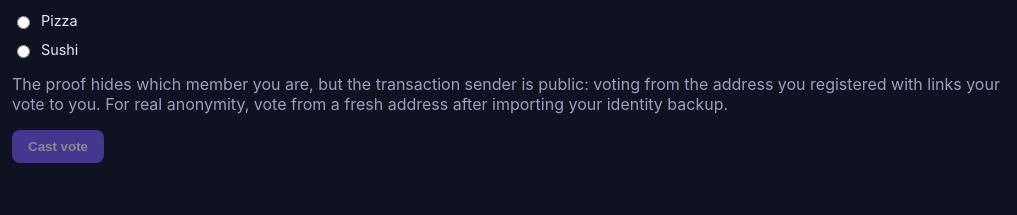
VotePanel › shows the proving state then success
The image size is (1017, 215).
Later steps or results of the test are not shown.
Click the radio button labelled "Sushi" at [24, 51], box [17, 44, 30, 58]
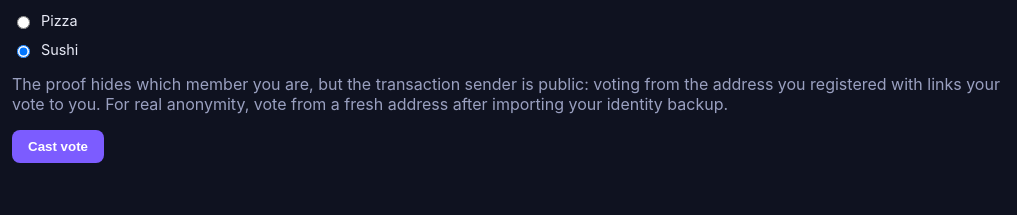
Click the button "Cast vote" at [58, 146], box [12, 130, 104, 163]
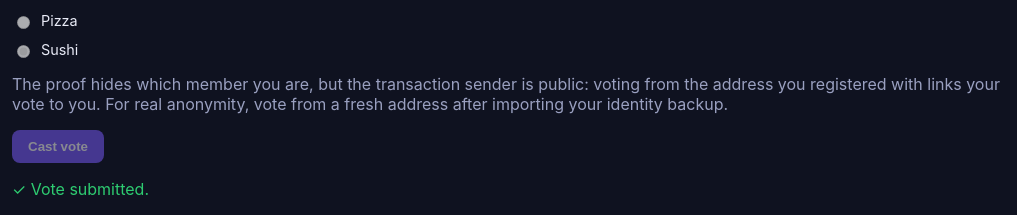
expect the text "✓ Vote submitted." is shown: met, box [12, 179, 149, 199]
